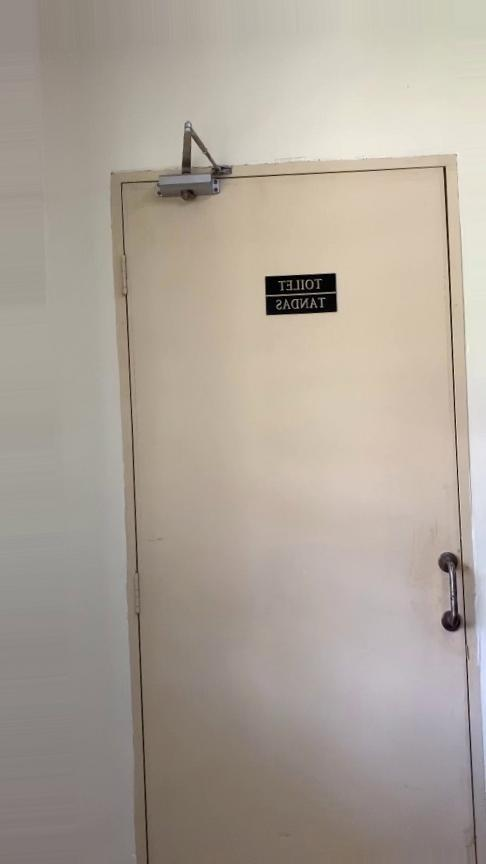door: (110, 155, 477, 864)
